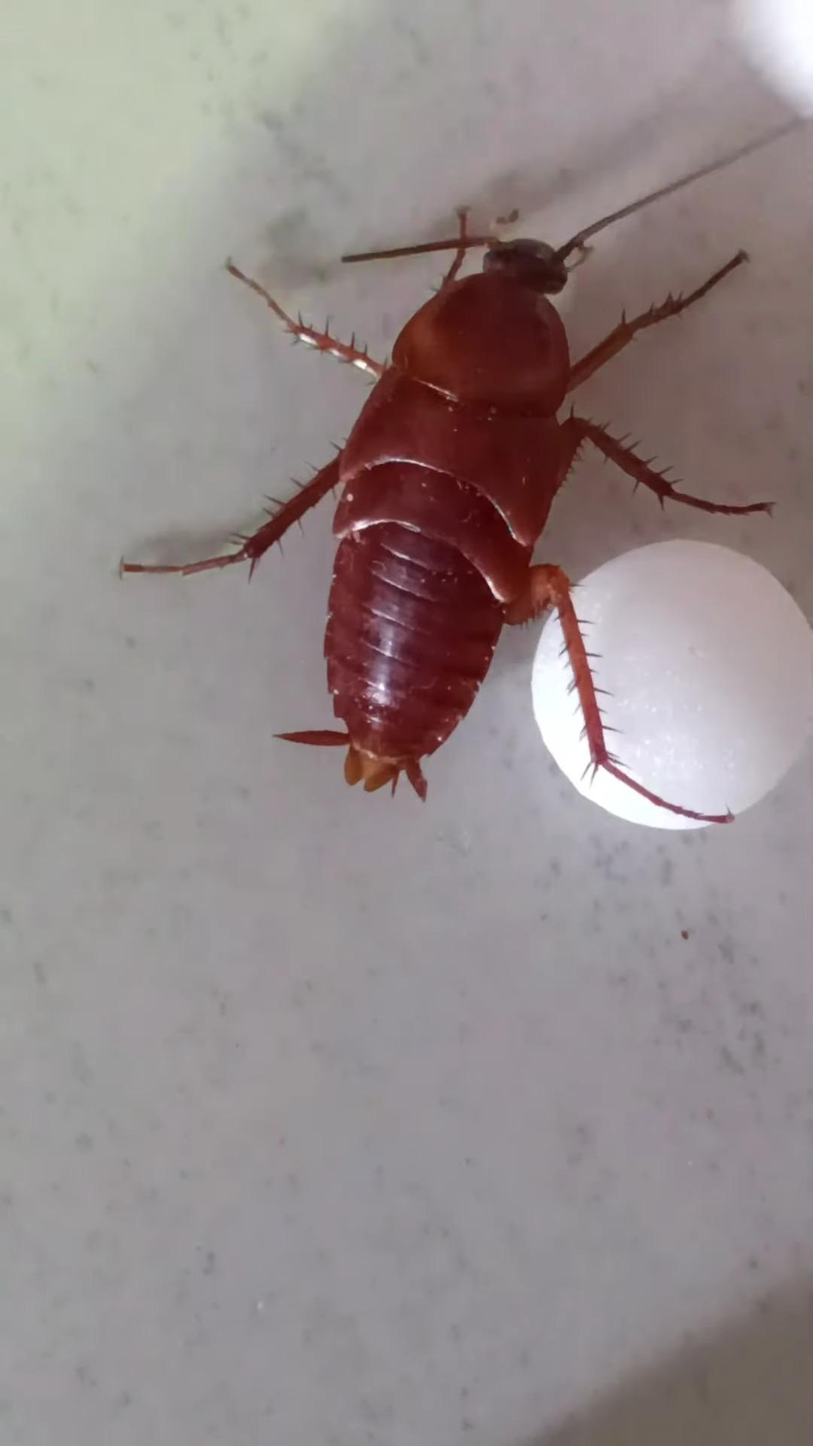cockroach: (102, 185, 813, 534)
